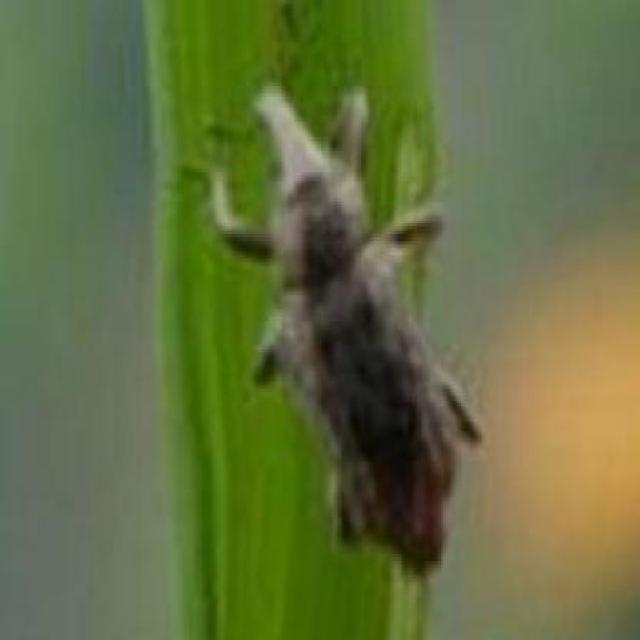rice-bug: (230, 77, 472, 575)
